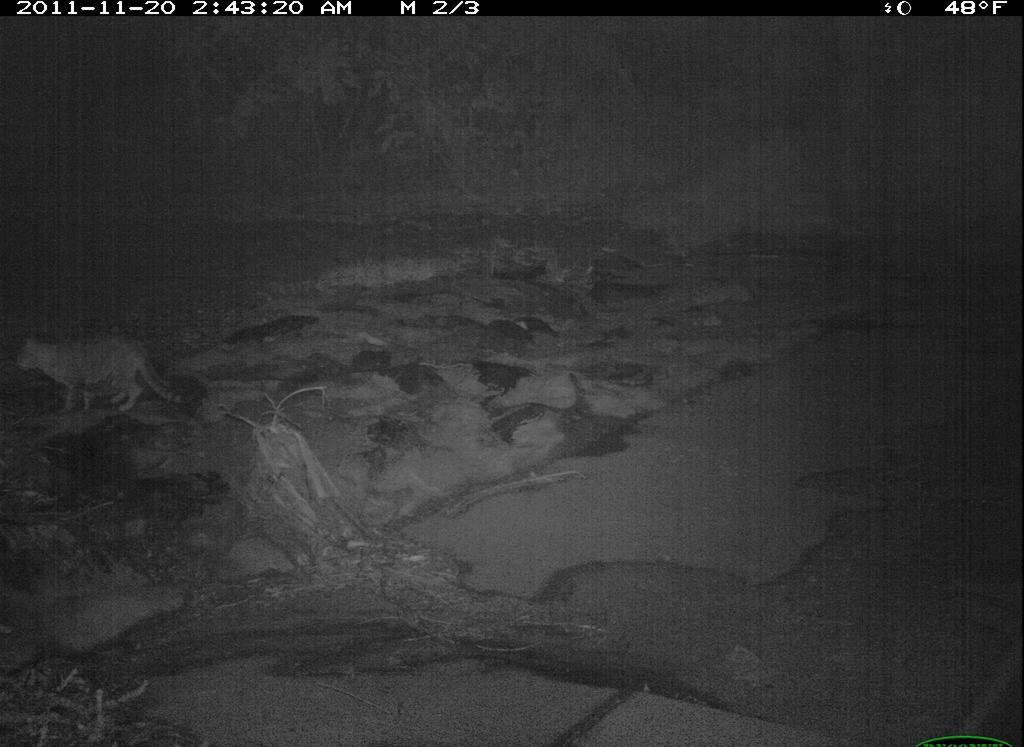cat: (12, 324, 198, 427)
